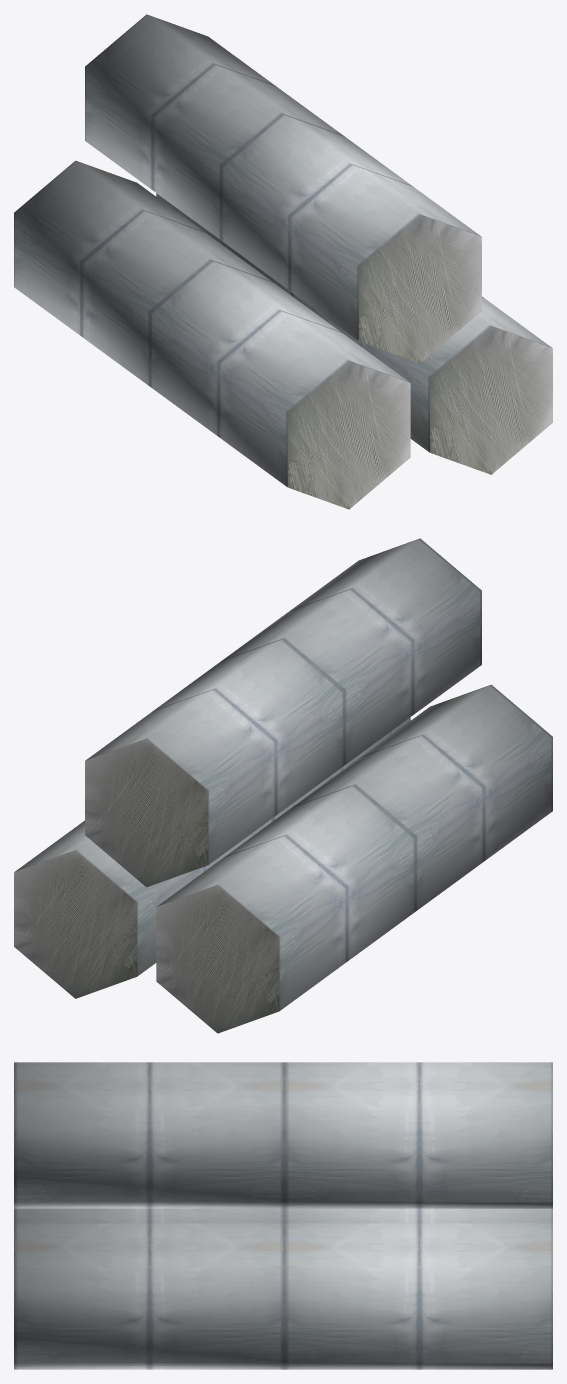
The model's file is hay-bale-plastic-3x4-cbj_LOD02.gltf.
3 renders of one model, top to bottom at view 1: azimuth 30°, elevation 25°; view 2: azimuth 150°, elevation 25°; view 3: azimuth 270°, elevation 25°, orthographic.
Visible parts, largest first — view 1: Cube.002; view 2: Cube.002; view 3: Cube.002.
Part boxes in pixels (box(x1,y1,x2,y2)): Cube.002: box(14, 14, 552, 509); Cube.002: box(14, 538, 552, 1033); Cube.002: box(14, 1062, 552, 1369).
Size of what is drawn, in the model's own units: 3.36 by 3.36 by 6.
